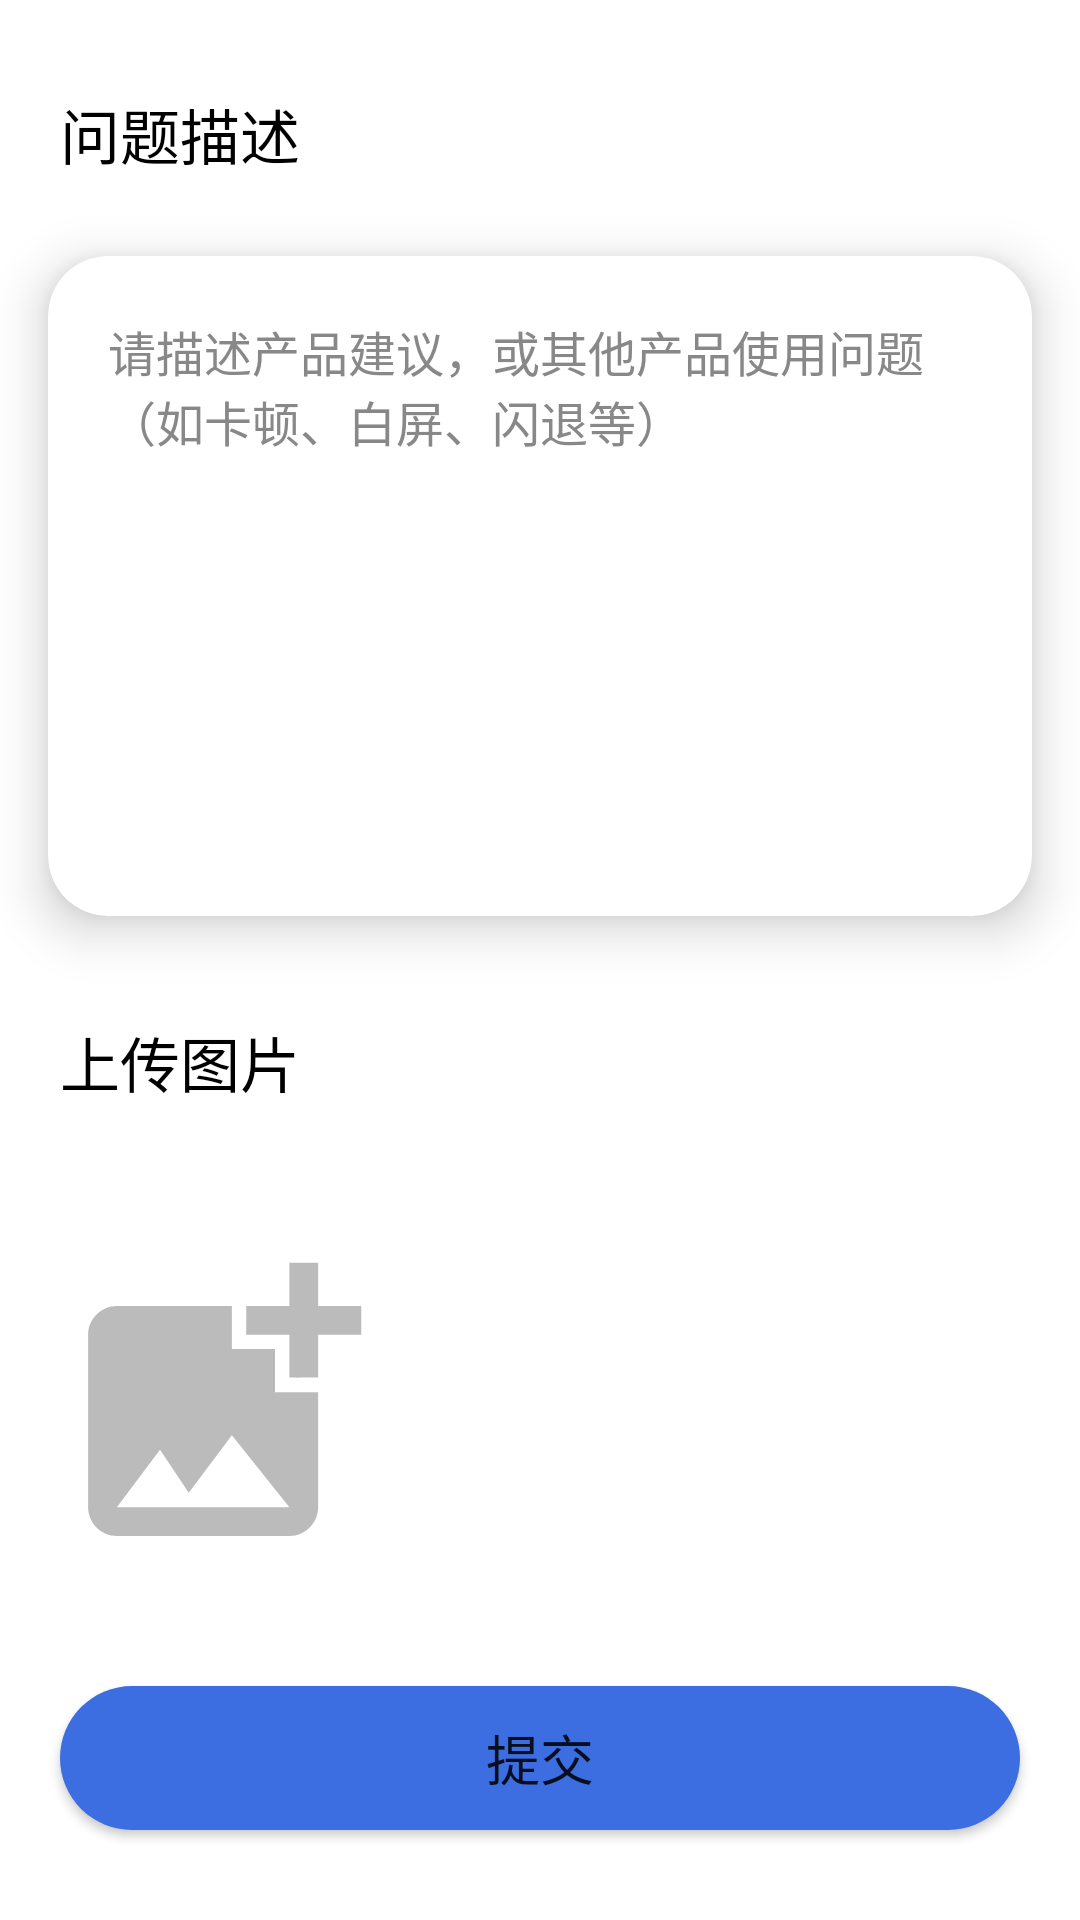

Named icons in this screenshot (1080×1920) and their centers, (x,y):
add photo: (224,1399)
